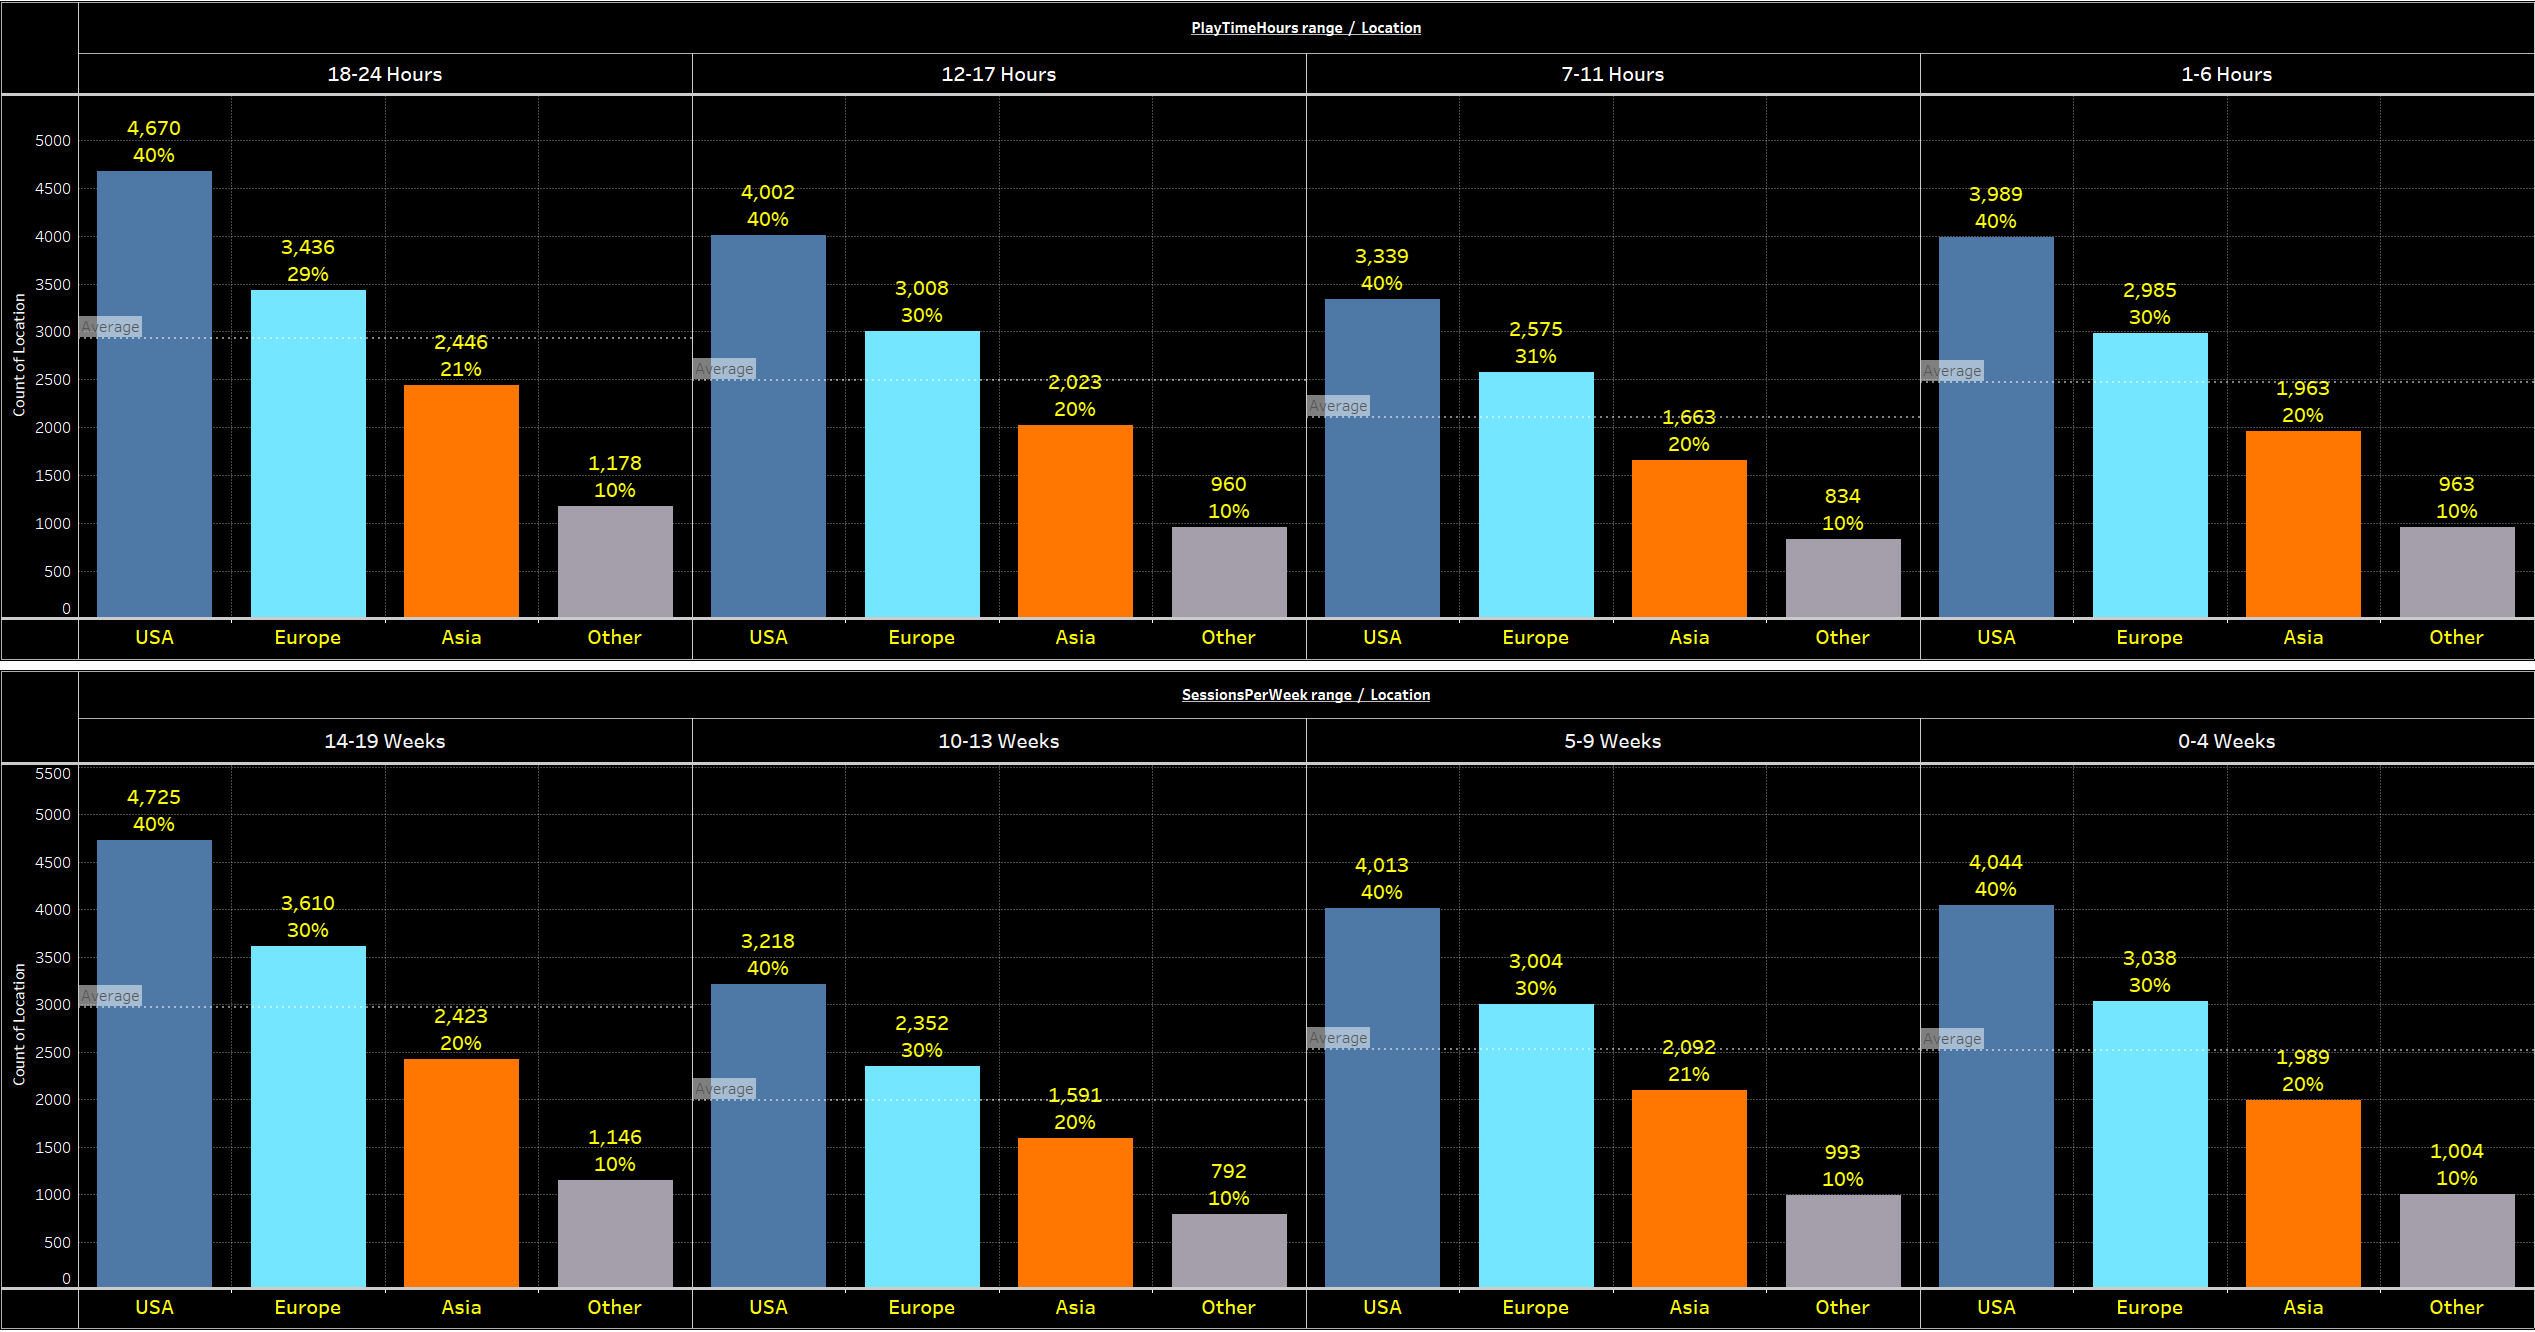

The page's visual inventory and layout, read from the dashboard file:
{"tool":"tableau","page":{"name":"Location_Hours_Weekly","canvas":[1000,1000],"units":"permille","ordinal":2},"visuals":[{"type":"worksheet","title":"Location_PlayTimeHours","mark":"Automatic","rows":["Location"],"cols":["PlayTimeHours_range","Location"],"box":[3.1,5.9,993.7,494.1]},{"type":"worksheet","title":"Location_SessionPerWeek","mark":"Automatic","rows":["Location"],"cols":["SessionsPerWeek_range","Location"],"box":[3.1,500,993.7,494.1]}]}

Visuals, with their boxes on the dashboard's canvas, which has no fixed pixel size, in thousandths of its width and height (x1, y1, x2, y2). These are canvas units, not pixel positions in the 2535x1332 screenshot, which may show the page scaled, cropped or inside an application window:
"Location_PlayTimeHours" worksheet: Rect(3, 6, 997, 500)
"Location_SessionPerWeek" worksheet: Rect(3, 500, 997, 994)
